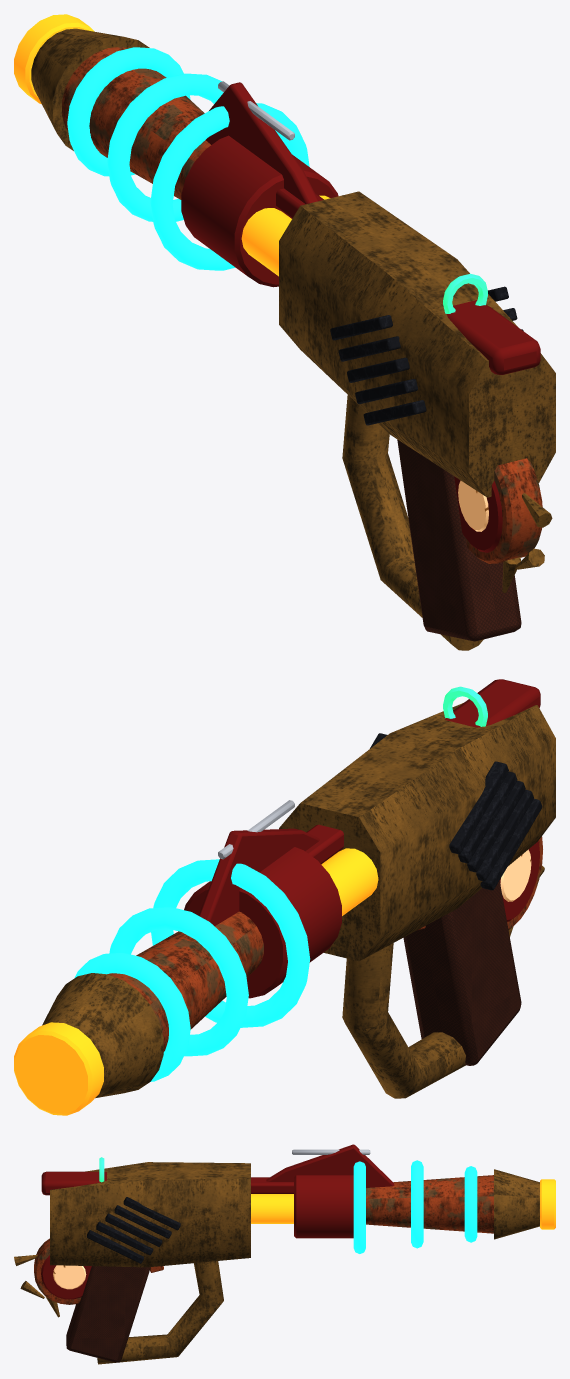
File: raygun.glb
3 views of the same model, one above another, from view 1: azimuth 30°, elevation 25°; view 2: azimuth 150°, elevation 25°; view 3: azimuth 270°, elevation 25° (orthographic). The views are drawn at different scales.
Visible parts, largest first — view 1: Receiver, PlasmaCells; view 2: Receiver, PlasmaCells; view 3: Receiver, PlasmaCells.
Part boxes in pixels (bbox=[...]): Receiver: bbox=[14, 14, 555, 650]; PlasmaCells: bbox=[241, 195, 330, 276]; Receiver: bbox=[14, 679, 555, 1115]; PlasmaCells: bbox=[321, 848, 378, 915]; Receiver: bbox=[14, 1144, 555, 1364]; PlasmaCells: bbox=[251, 1194, 293, 1223].
Size of the model in its own units: 0.087 by 0.2095 by 0.4725.
10 materials, 5 textured.
